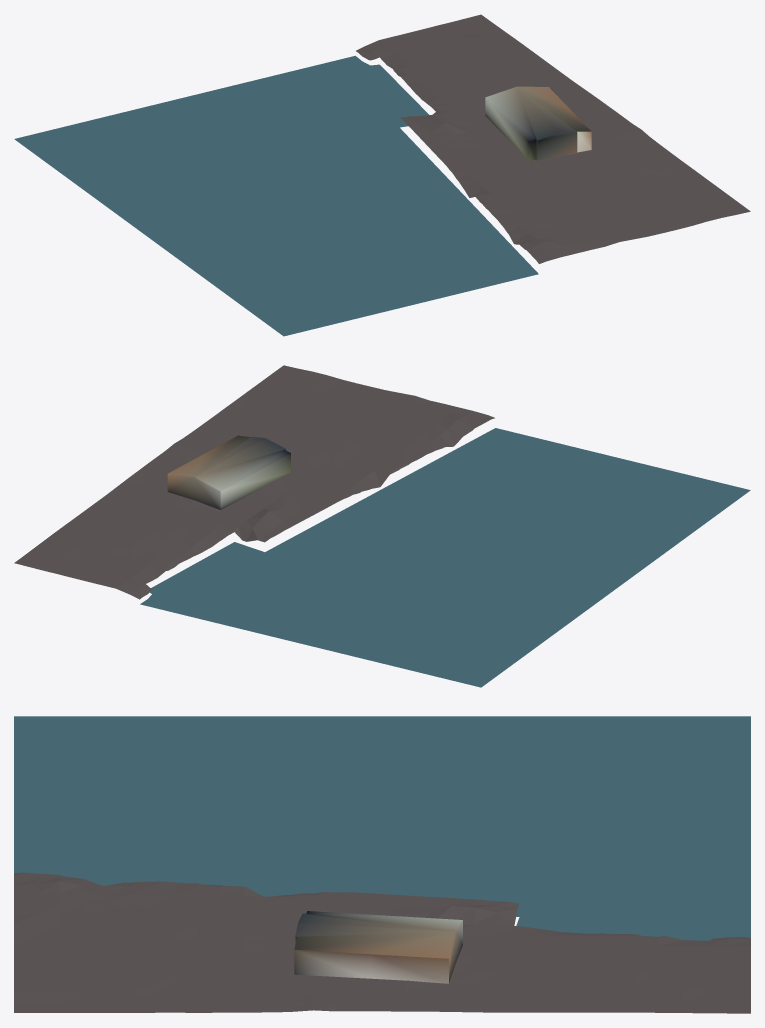
3 renders of one model, top to bottom at view 1: azimuth 30°, elevation 25°; view 2: azimuth 150°, elevation 25°; view 3: azimuth 270°, elevation 25°, orthographic. The views are drawn at different scales.
Visible parts, largest first — view 1: c_m12_p12; view 2: c_m12_p12; view 3: c_m12_p12.
Boxes of the visible parts, bbox=[...] form: c_m12_p12: bbox=[14, 14, 750, 336]; c_m12_p12: bbox=[14, 365, 750, 687]; c_m12_p12: bbox=[14, 716, 750, 1013].
Size of the model in its own units: 128 by 9.19 by 128.
